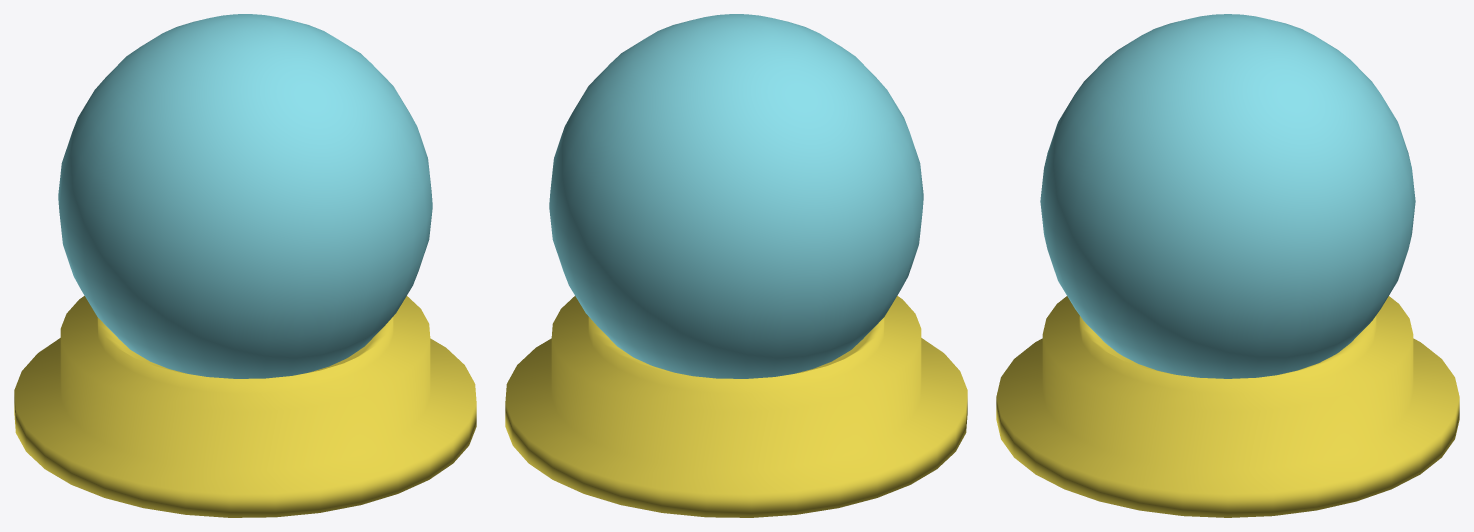
The model's file is crystalball.fbx.
The picture shows the model from 3 angles, left to right: view 1: azimuth 30°, elevation 25°; view 2: azimuth 150°, elevation 25°; view 3: azimuth 270°, elevation 25°; orthographic projection.
Visible parts, largest first — view 1: Cylinder; view 2: Cylinder; view 3: Cylinder.
Boxes of the visible parts, x1=… form: Cylinder: x1=14, y1=14, x2=476, y2=517; Cylinder: x1=505, y1=14, x2=967, y2=517; Cylinder: x1=996, y1=14, x2=1459, y2=517.
Size of the model in its own units: 424 by 393 by 424.
